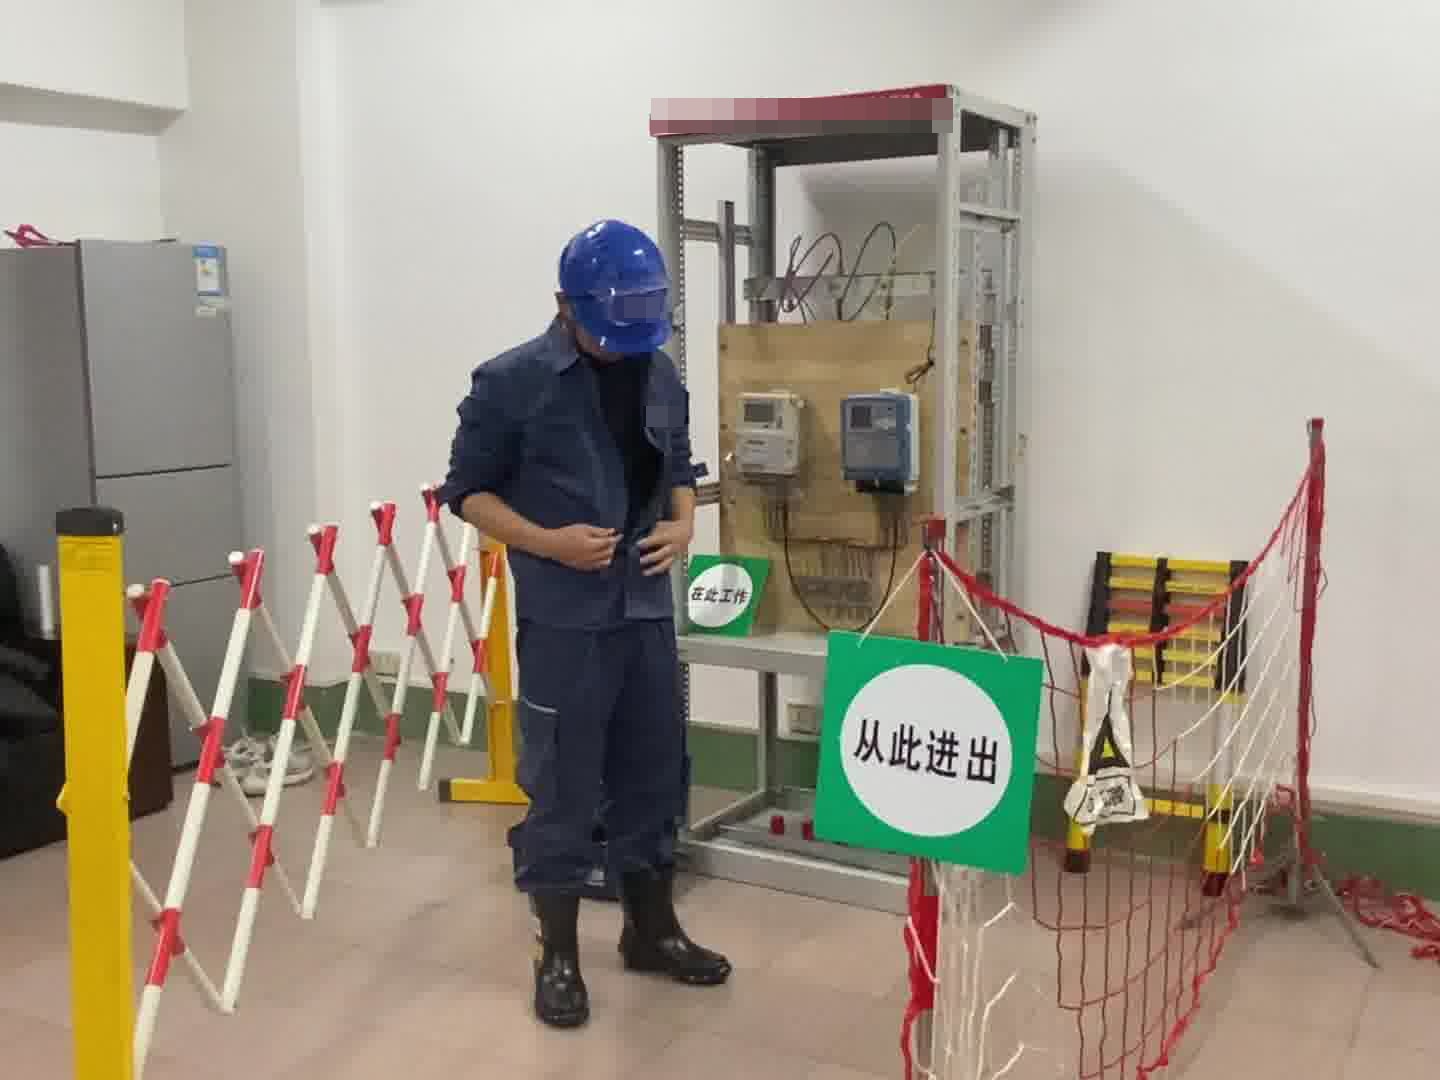downsuit: (509, 596, 691, 900)
halt: (556, 219, 673, 360)
hand: (555, 515, 617, 577), (638, 521, 691, 581)
intosign: (800, 619, 1061, 887)
person: (429, 215, 739, 1029)
shoe: (525, 866, 732, 1028)
upsuit: (445, 318, 689, 610)
worksign: (683, 548, 774, 646)
wrongsuit: (582, 349, 663, 540)
wrongtop: (455, 475, 622, 582), (633, 479, 700, 579)
